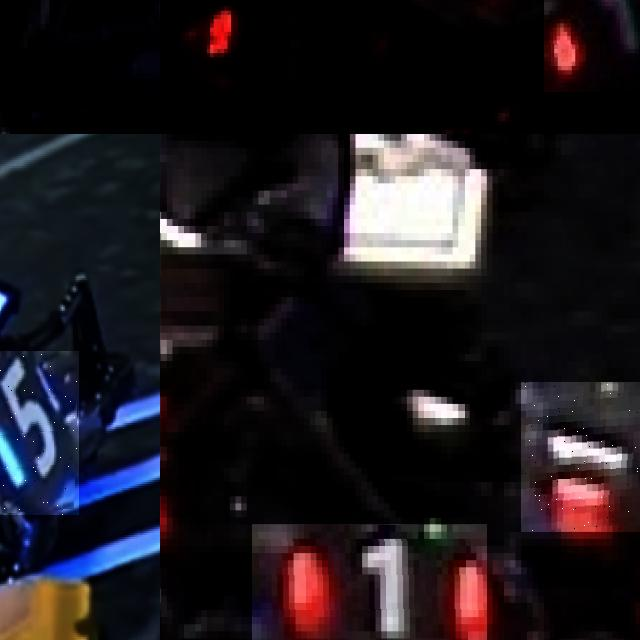B5: (0, 351, 79, 514)
R1: (252, 524, 486, 640), (521, 382, 640, 531), (544, 0, 640, 91)
